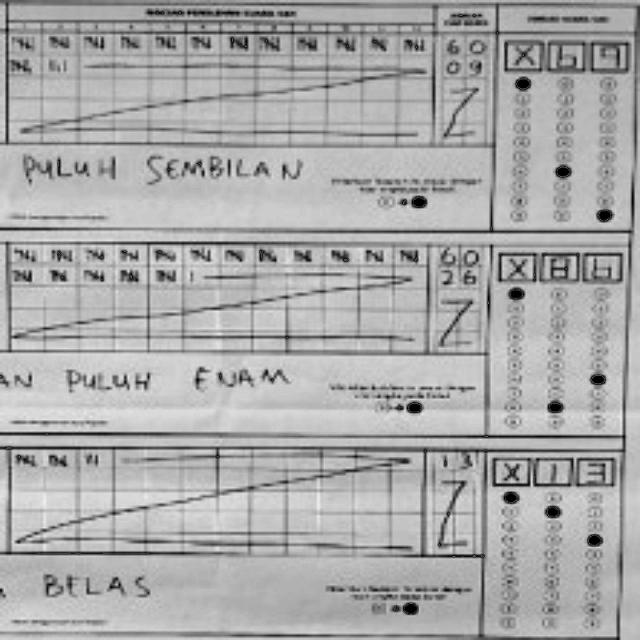Suara: (500, 35, 630, 70), (494, 253, 628, 286), (488, 454, 614, 487)
